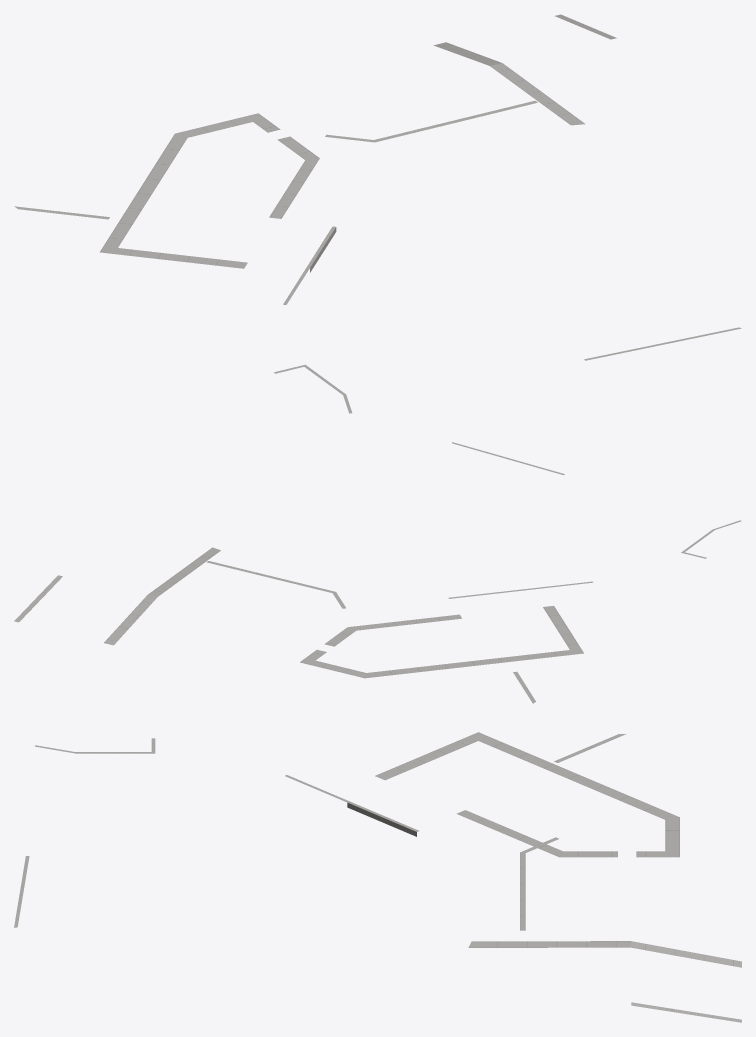
File: kd_stage_135ebf_0_21_bounded.glb
The picture shows the model from 3 angles, top to bottom: view 1: azimuth 30°, elevation 25°; view 2: azimuth 150°, elevation 25°; view 3: azimuth 270°, elevation 25°; orthographic projection. The views are drawn at different scales.
Parts seen in each view (by area): view 1: kd_stage_135ebf_0_21_bounded; view 2: kd_stage_135ebf_0_21_bounded; view 3: kd_stage_135ebf_0_21_bounded.
Part boxes in pixels (x1,y1,x2,y2): kd_stage_135ebf_0_21_bounded: (14, 14, 741, 413); kd_stage_135ebf_0_21_bounded: (14, 442, 741, 703); kd_stage_135ebf_0_21_bounded: (14, 732, 741, 1022).
Bounding box in the file's own units: 18.71 × 0.8501 × 19.86.
1 material, 1 textured.
